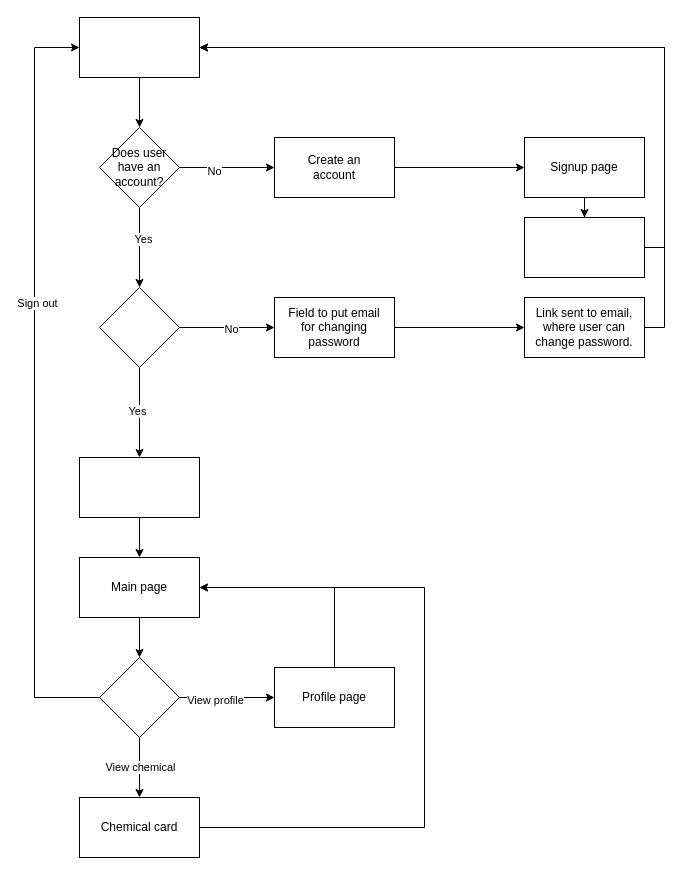
This 690x875 diagram has some shape labels left out. The centre of each missing label's shape, as x and y in pixels:
"Email verification" belongs at (x=584, y=247).
"Login page" belongs at (x=139, y=47).
"Login succesful" belongs at (x=139, y=487).
"Remember username/password?" belongs at (x=139, y=327).
